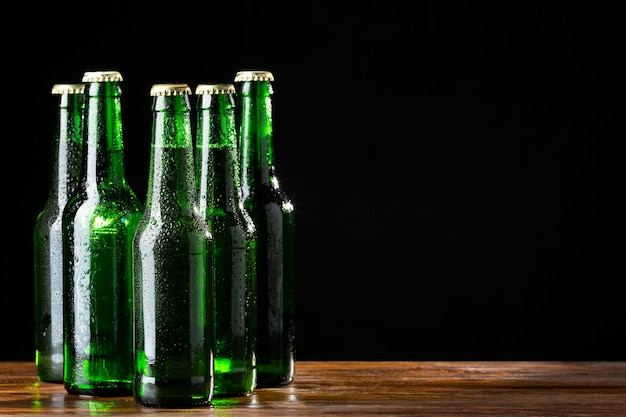alcohol: (62, 73, 148, 398), (136, 83, 213, 408), (187, 83, 259, 407), (232, 70, 299, 386), (36, 83, 89, 384)
